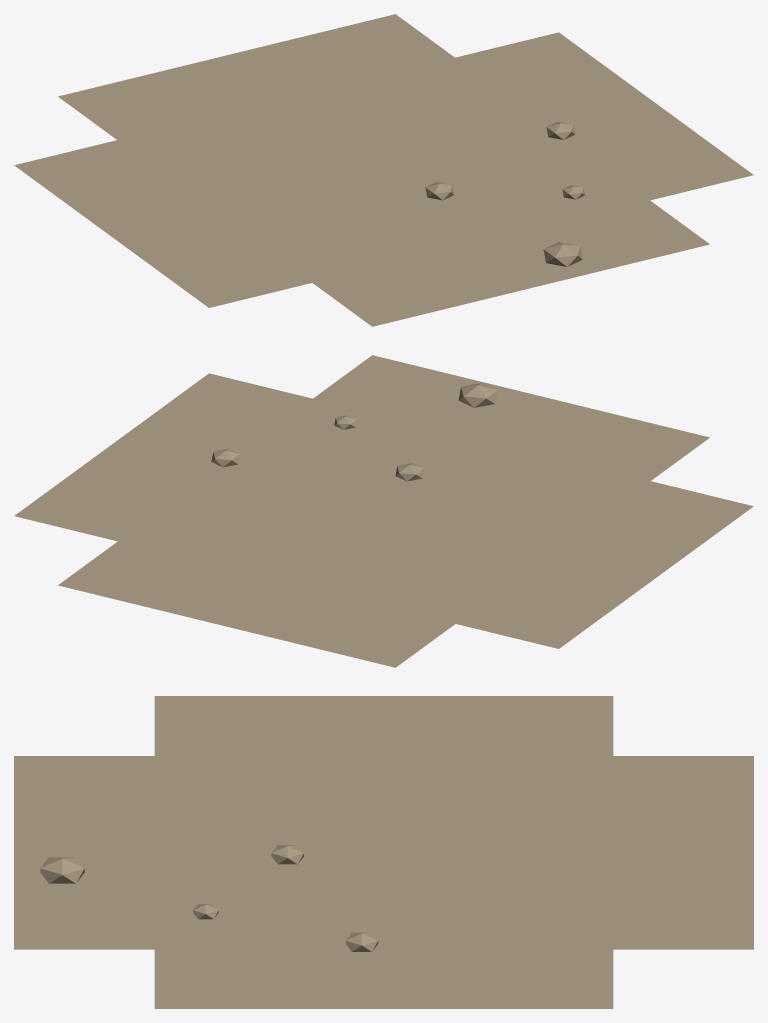
Rendered from road_dirt_cross.glb.
3 views of the same model, one above another, from view 1: azimuth 30°, elevation 25°; view 2: azimuth 150°, elevation 25°; view 3: azimuth 270°, elevation 25° (orthographic). The views are drawn at different scales.
Parts seen in each view (by area): view 1: Plane, v; view 2: Plane, v; view 3: Plane, v.
Part boxes in pixels (left/top/right/bottom): Plane: left=14, top=32, right=753, bottom=307; v: left=58, top=14, right=709, bottom=326; Plane: left=14, top=373, right=753, bottom=648; v: left=58, top=355, right=709, bottom=667; Plane: left=154, top=696, right=613, bottom=1008; v: left=14, top=756, right=753, bottom=951.
Bounding box in the file's own units: 2 × 0.0702 × 2.
